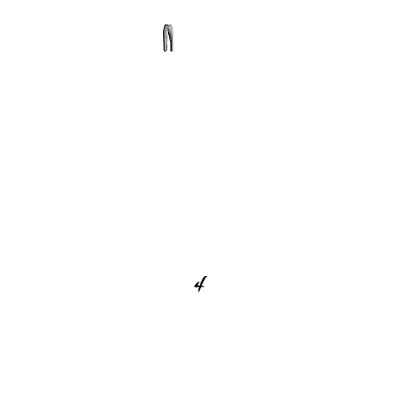4: (189, 273, 211, 295)
Trouser: (154, 24, 182, 52)
